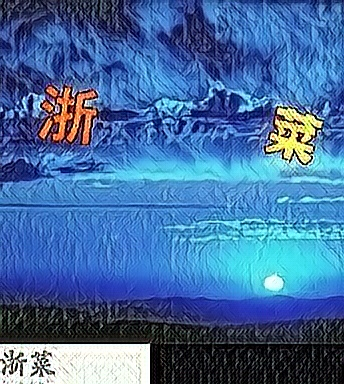B2CB: (259, 101, 326, 165)
D5E3: (32, 81, 99, 145)
